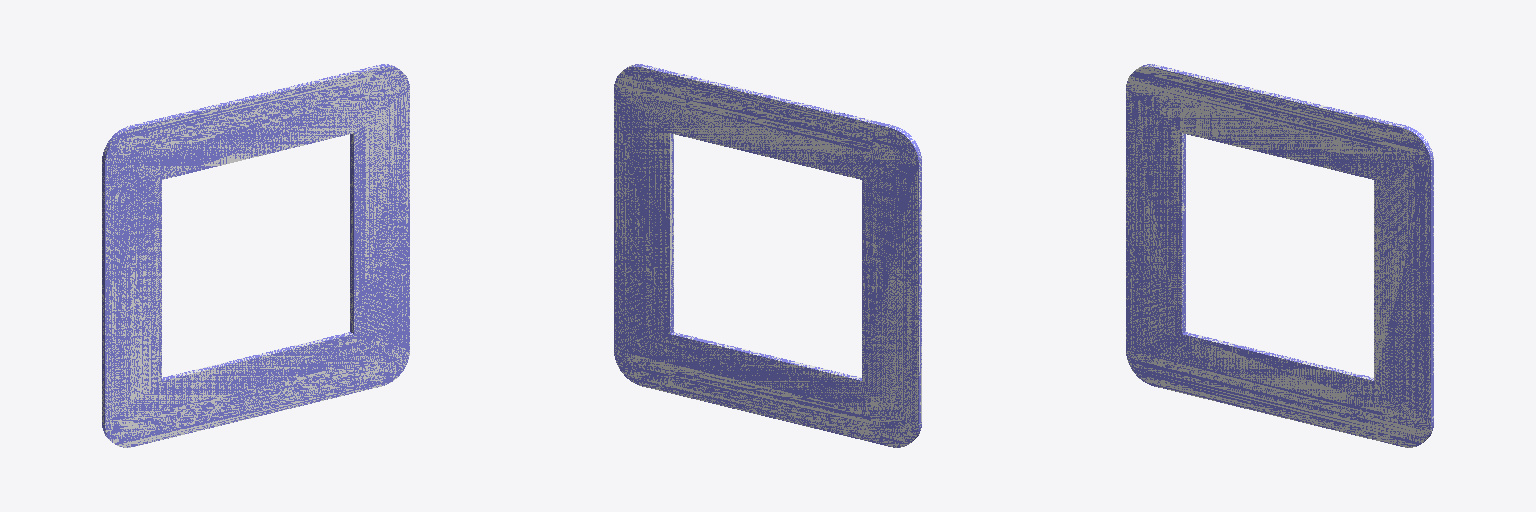
File: original-13.obj
The picture shows the model from 3 angles: view 1: azimuth 30°, elevation 25°; view 2: azimuth 150°, elevation 25°; view 3: azimuth 330°, elevation 25°; orthographic projection.
Parts seen in each view (by area): view 1: Group2/mesh25/mesh25-geometry#mesh25-geometry; view 2: Group2/mesh25/mesh25-geometry#mesh25-geometry; view 3: Group2/mesh25/mesh25-geometry#mesh25-geometry.
Boxes of the visible parts, box(x1,y1,x2,y2) form: Group2/mesh25/mesh25-geometry#mesh25-geometry: box(102, 64, 409, 447); Group2/mesh25/mesh25-geometry#mesh25-geometry: box(614, 64, 921, 447); Group2/mesh25/mesh25-geometry#mesh25-geometry: box(1126, 64, 1433, 447).
Bounding box in the file's own units: 1.08 × 1.08 × 0.02.